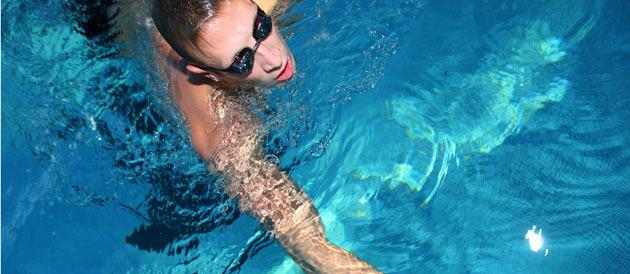swimmer: (134, 1, 416, 273)
